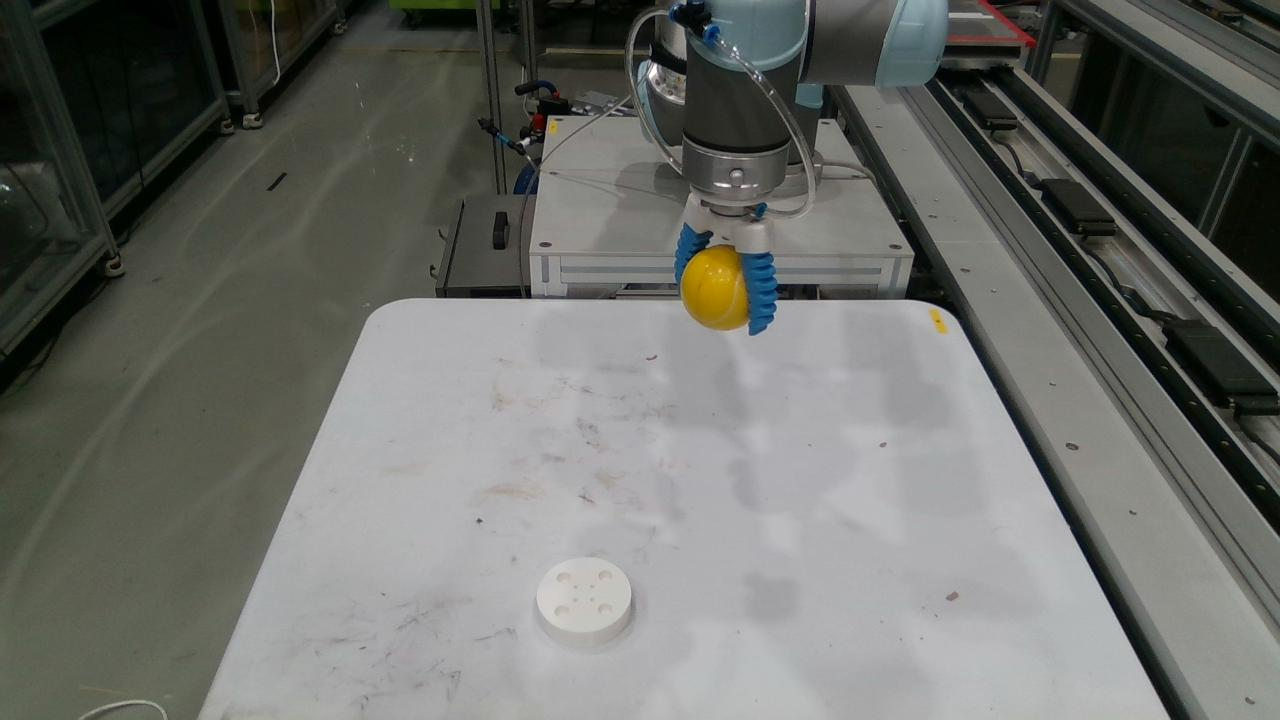UR5: (634, 0, 949, 253)
gripper_left: (674, 224, 712, 287)
gripper_right: (741, 251, 777, 335)
target: (536, 557, 634, 648), (680, 244, 750, 331)
